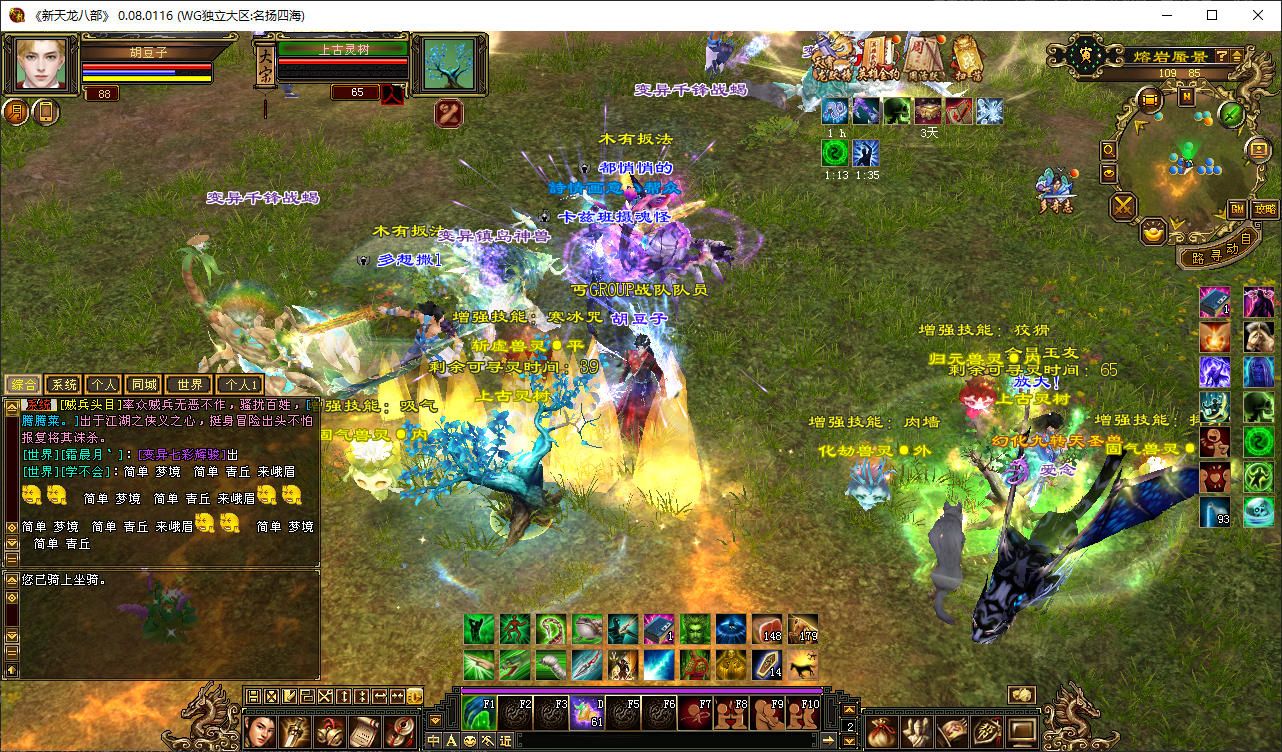cheap: (302, 380, 452, 534), (903, 313, 1060, 451), (794, 398, 942, 530)
tree: (355, 371, 628, 580)
